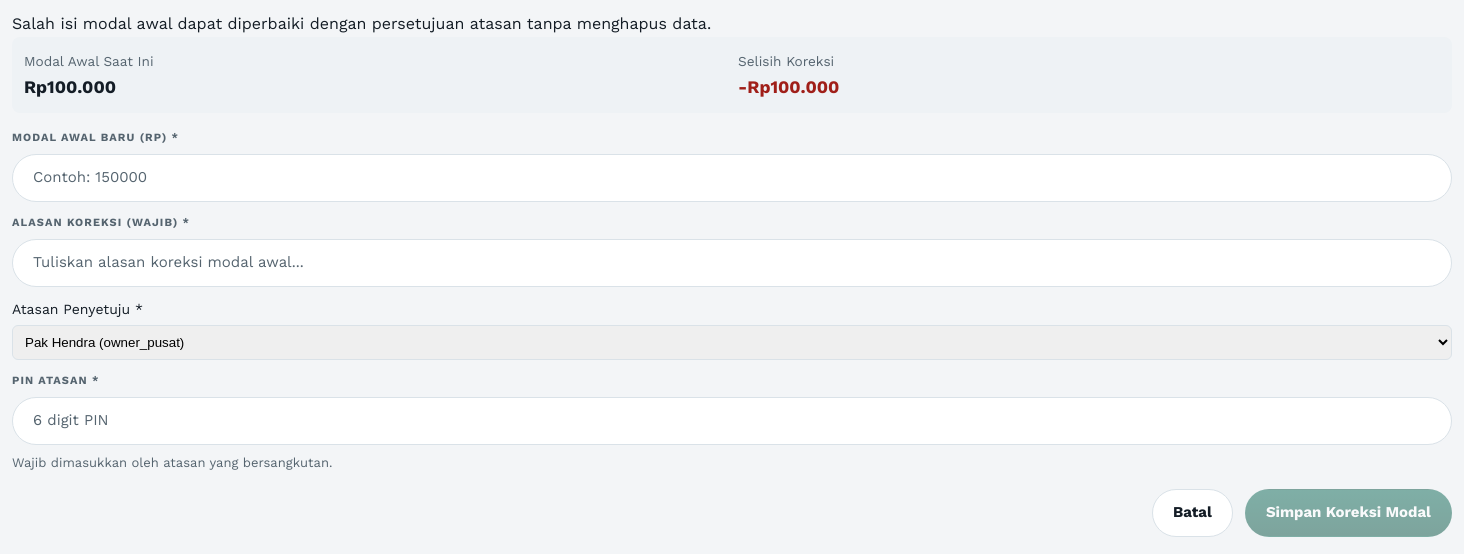
KoreksiModal Component (T7-06) › menghitung selisih positif dan negatif secara dinamis
Note: Bertambah 50.000
Step 1. Type "150000" into the field labelled "Modal Awal Baru (Rp) *" → (732, 178), box [12, 154, 1452, 202]
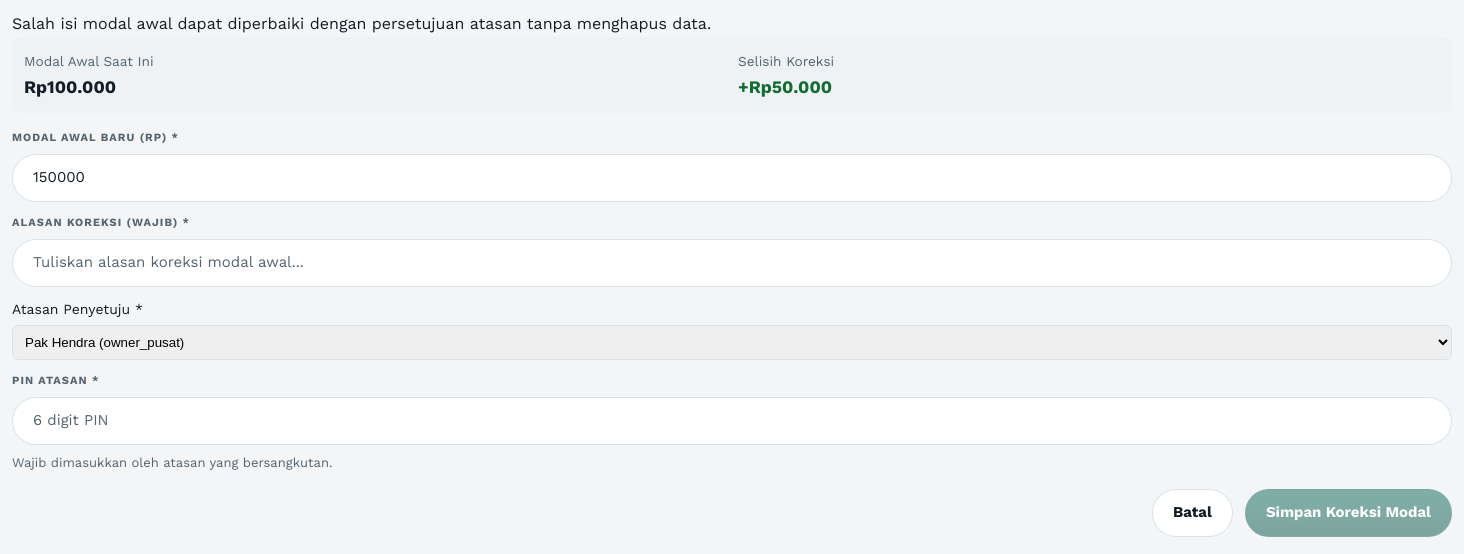
Expected: the text with test id "selisih-koreksi" shows "+", [738, 77, 832, 97]
Expected: the text with test id "selisih-koreksi" shows "50.000", [738, 77, 832, 97]
Note: Berkurang 20.000
Step 2. Replace the text in the field labelled "Modal Awal Baru (Rp) *" with "80000" → (732, 178), box [12, 154, 1452, 202]
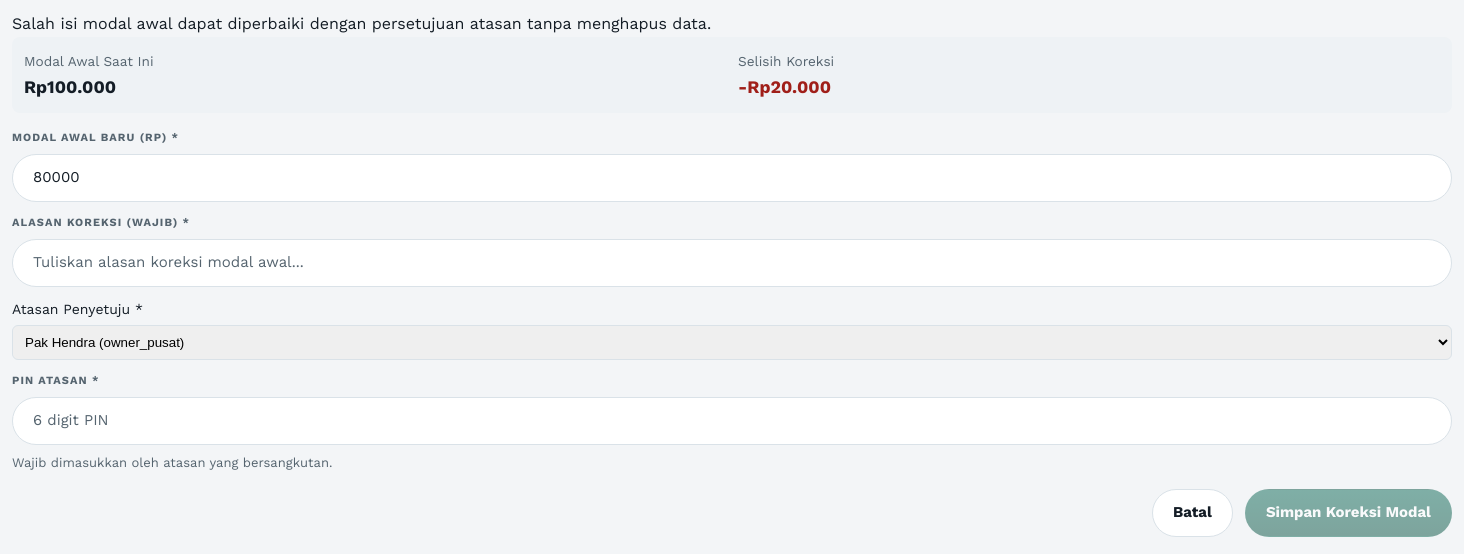
Expected: the text with test id "selisih-koreksi" shows "20.000", [738, 77, 831, 97]
